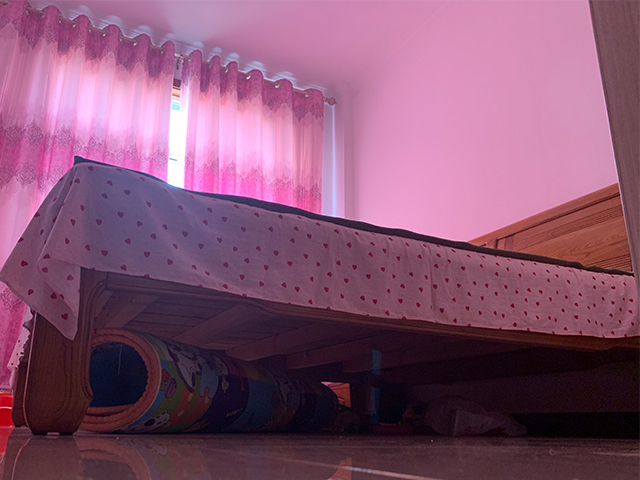bed: (1, 155, 640, 438)
